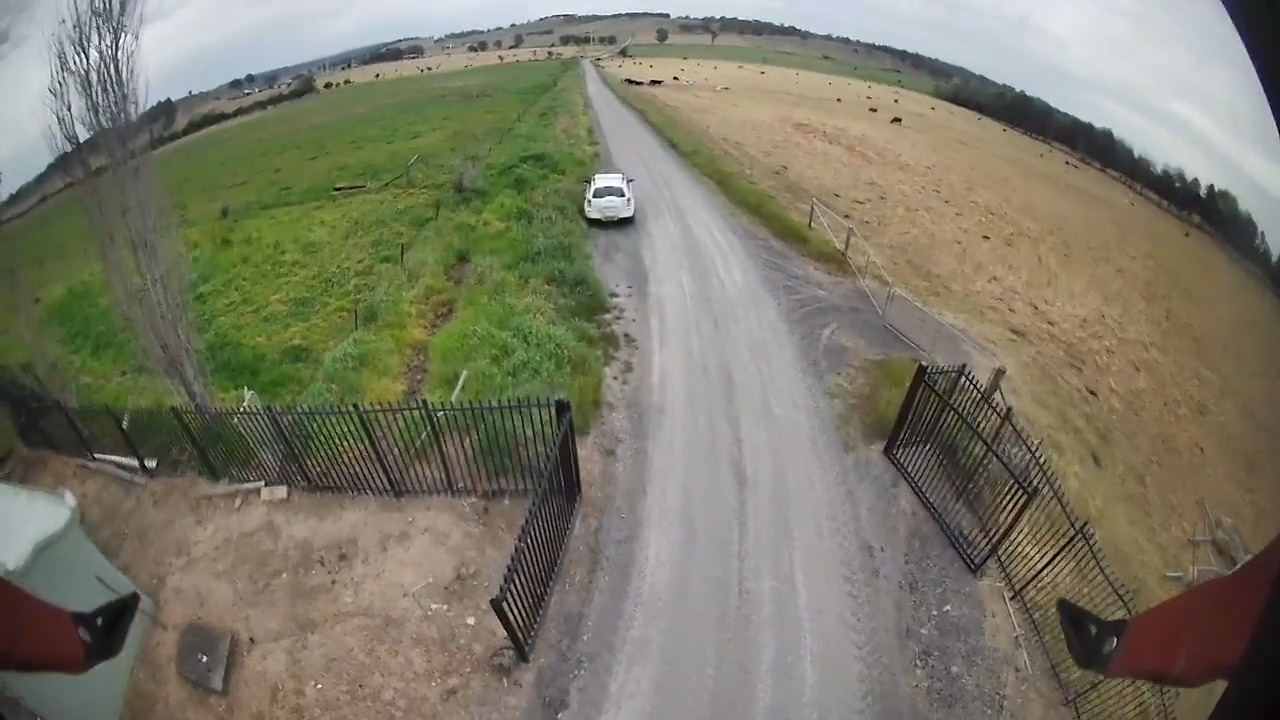Car: (582, 172, 635, 223)
